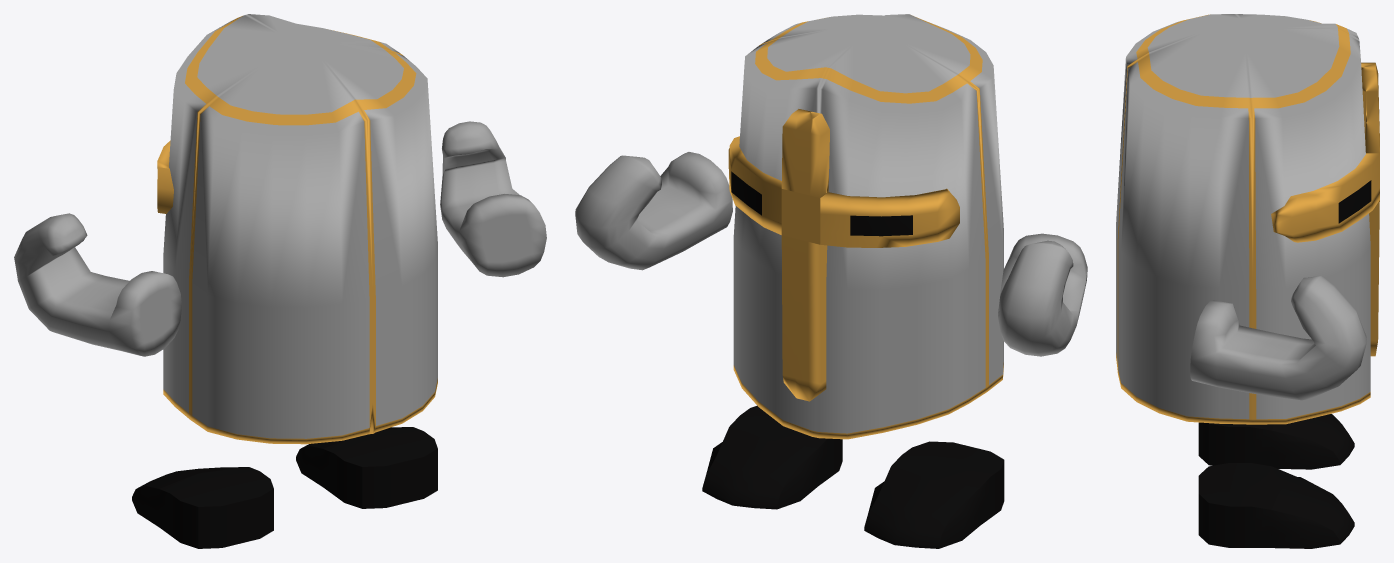
Rendered from Caballero2.fbx.
3 views of the same model, side by side, from view 1: azimuth 30°, elevation 25°; view 2: azimuth 150°, elevation 25°; view 3: azimuth 270°, elevation 25° (orthographic).
Parts seen in each view (by area): view 1: pCube20; view 2: pCube20; view 3: pCube20.
Boxes of the visible parts, x1,y1,x2,y2 form: pCube20: (14,14,546,548); pCube20: (575,14,1087,548); pCube20: (1116,14,1379,548).
Bounding box in the file's own units: 14.45 × 13.24 × 6.92.
